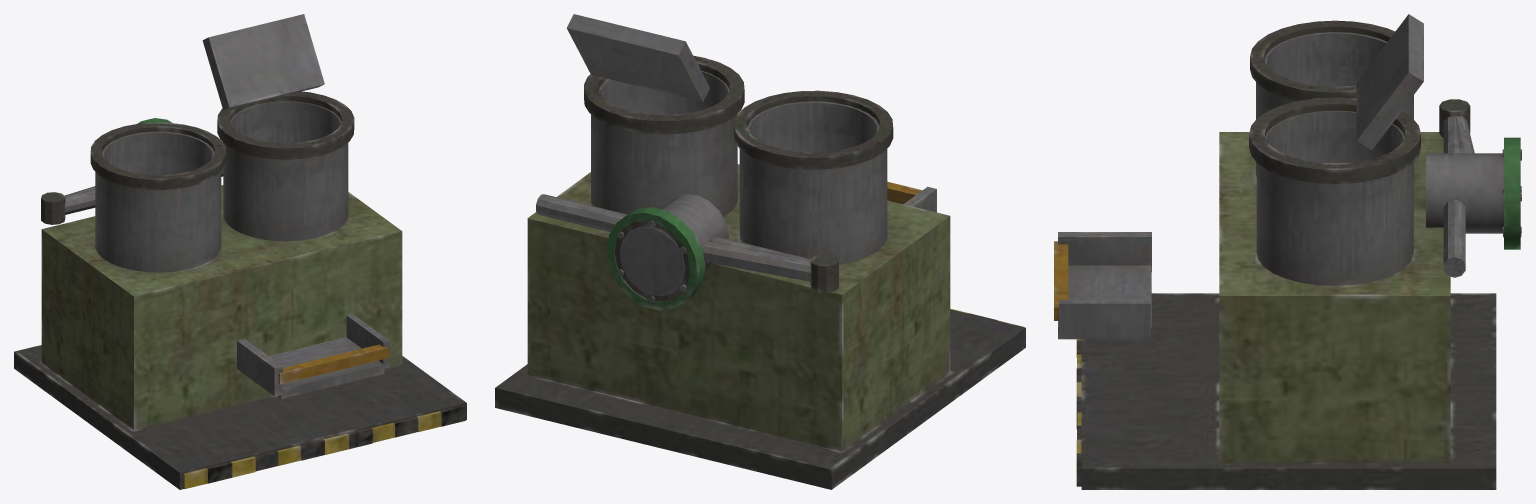
Rendered from feCookerIndustrial.glb.
3 views of the same model, side by side, from view 1: azimuth 30°, elevation 25°; view 2: azimuth 150°, elevation 25°; view 3: azimuth 270°, elevation 25° (orthographic). The views are drawn at different scales.
Parts seen in each view (by area): view 1: feCookerIndustrial_Base; view 2: feCookerIndustrial_Base; view 3: feCookerIndustrial_Base.
Boxes of the visible parts, <box> form: feCookerIndustrial_Base: <box>14,14,466,489</box>; feCookerIndustrial_Base: <box>495,14,1025,489</box>; feCookerIndustrial_Base: <box>1054,14,1521,489</box>.
Bounding box in the file's own units: 0.9012 × 0.9544 × 1.02.
Materials: 2 (1 with a texture image).
